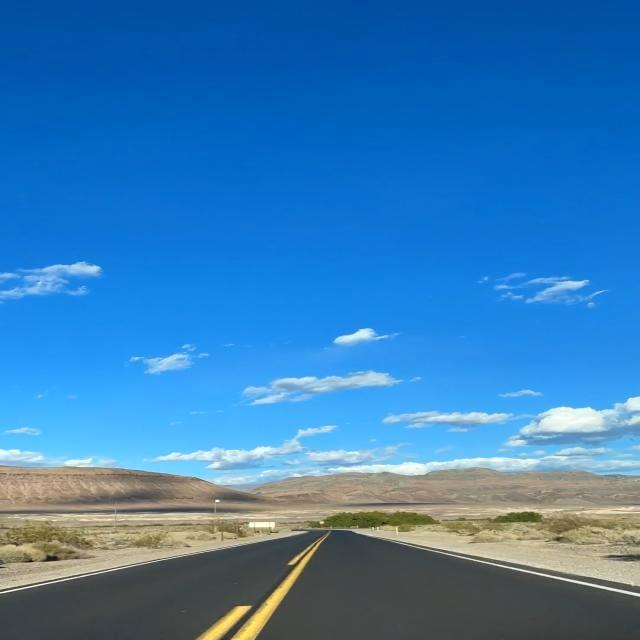road: (0, 530, 639, 639)
